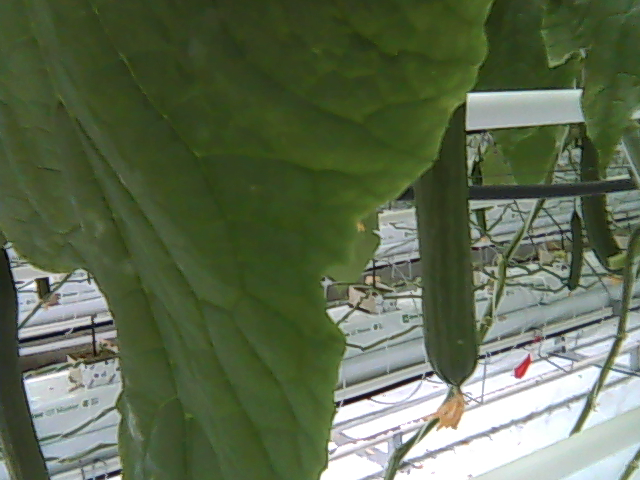concombre: (410, 89, 480, 430), (1, 248, 54, 480)
